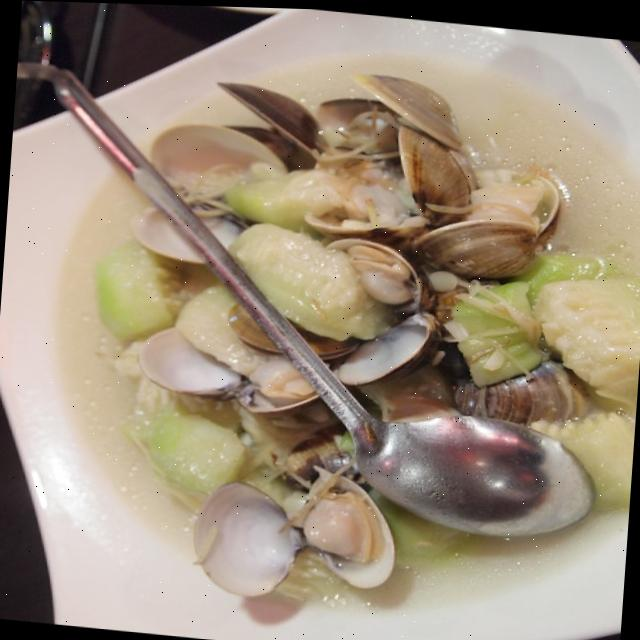Wet: (203, 85, 606, 354), (108, 302, 335, 569)
